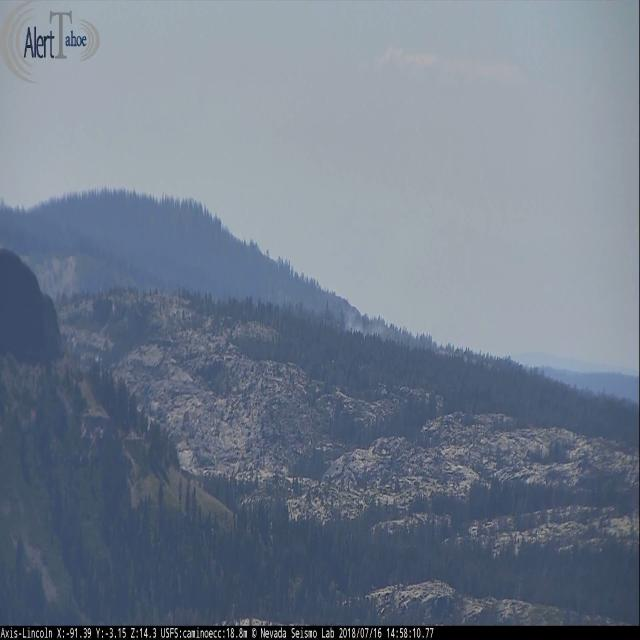smoke: (343, 310, 393, 337)
